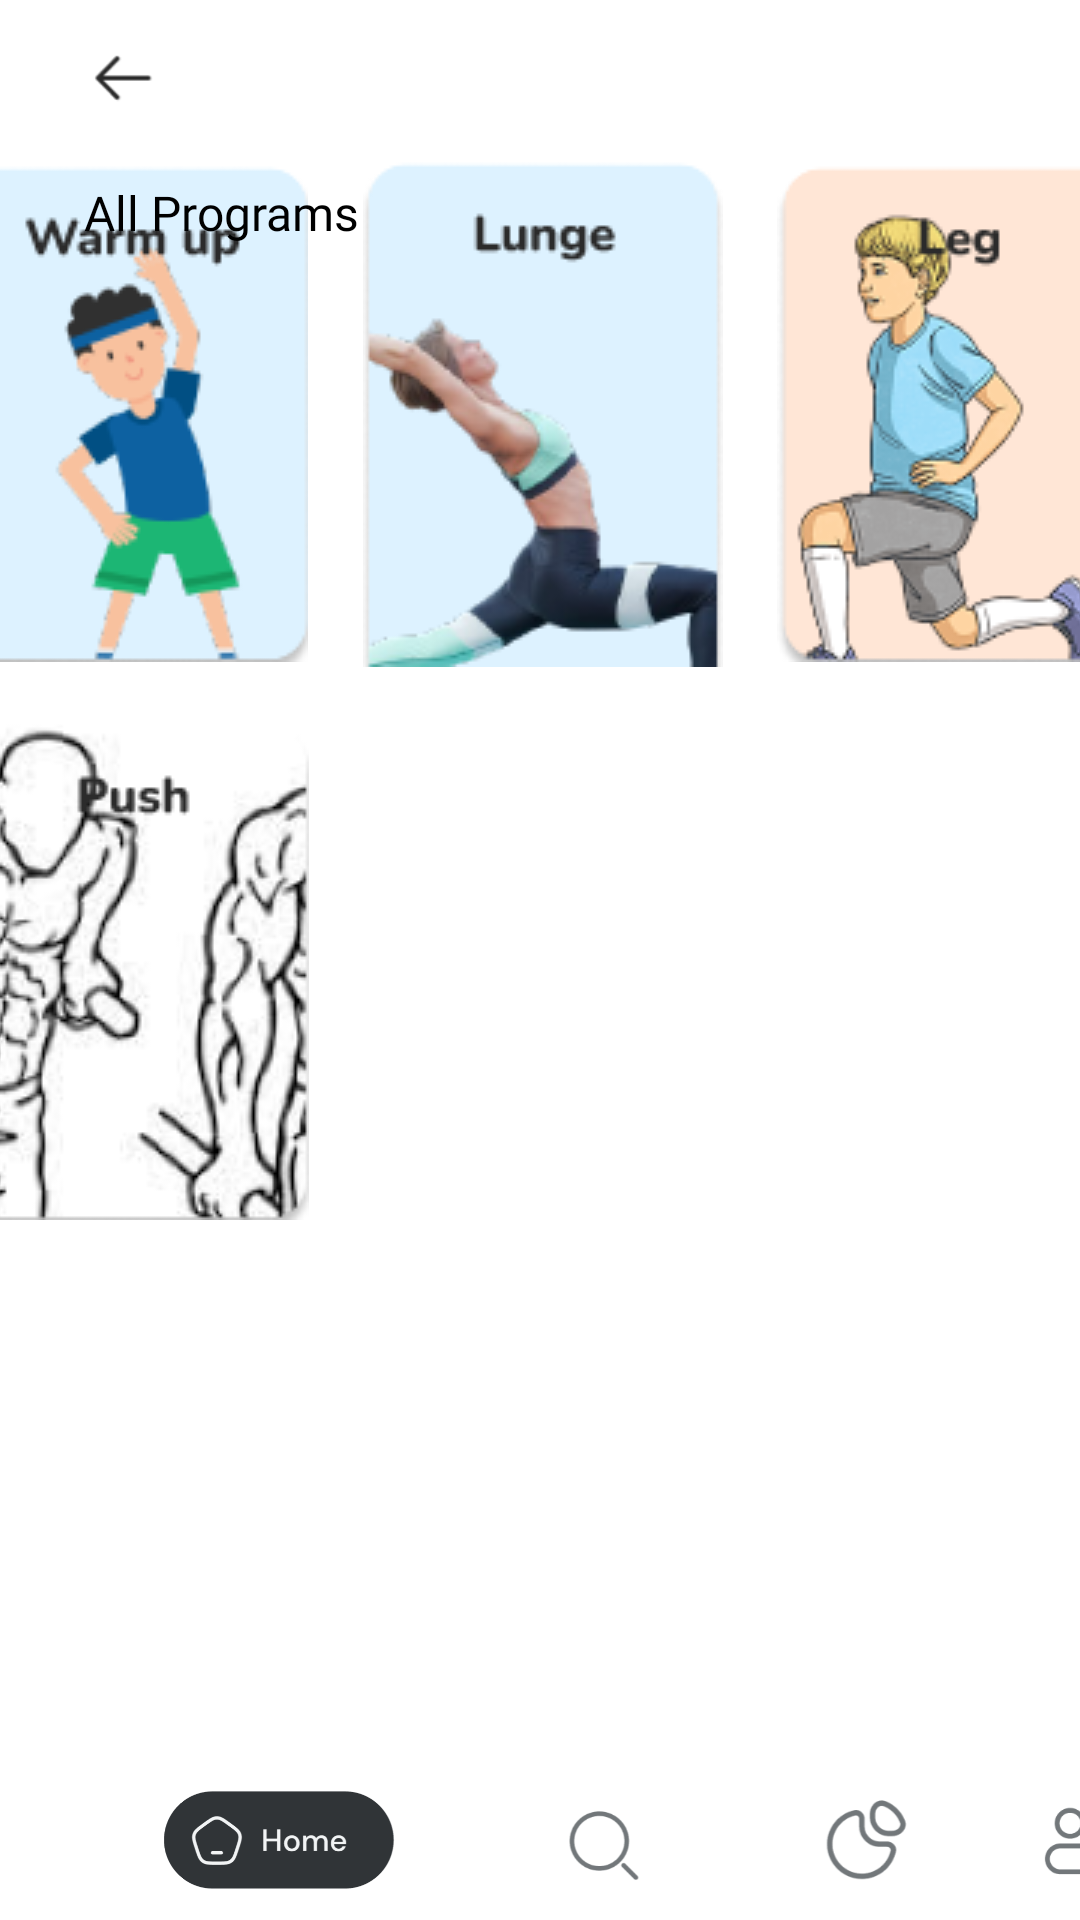

Locate icon controls on the screen. Image size 1080 x 1920, boxes as bbox=[x1, y1, x2, y2].
back: bbox=[95, 56, 152, 100]
search: bbox=[569, 1811, 639, 1880]
